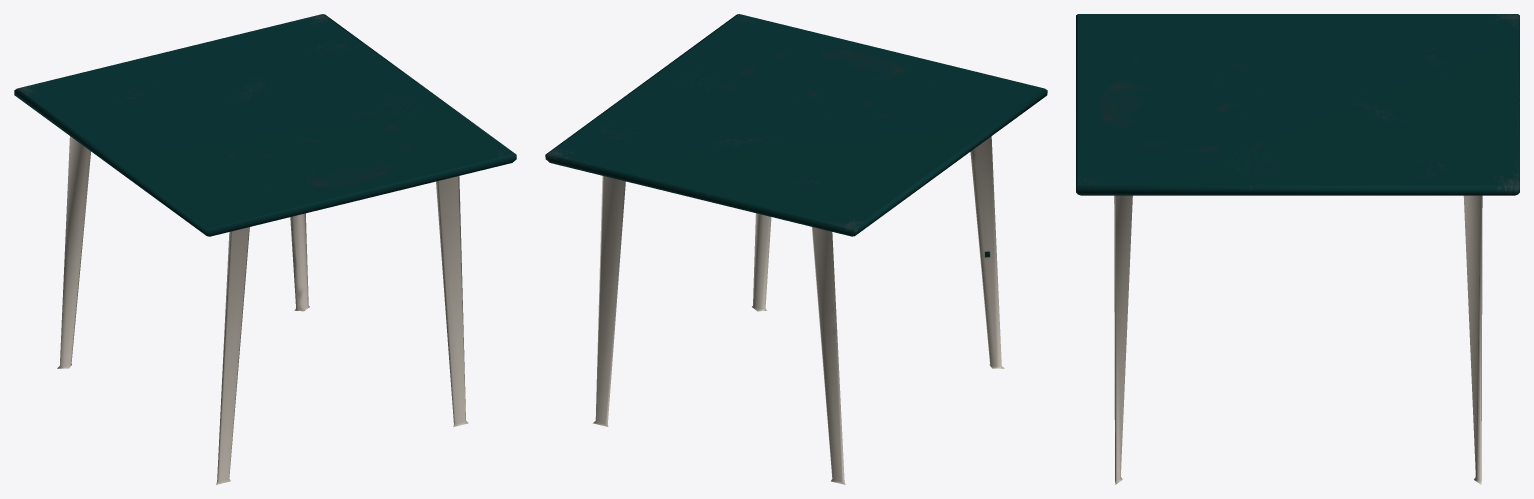
File: table.fbx
3 views of the same model, side by side, from view 1: azimuth 30°, elevation 25°; view 2: azimuth 150°, elevation 25°; view 3: azimuth 270°, elevation 25° (orthographic). The views are drawn at different scales.
Parts seen in each view (by area): view 1: defaultMaterial.003; view 2: defaultMaterial.003; view 3: defaultMaterial.003.
Part boxes in pixels (x1=…): defaultMaterial.003: x1=14, y1=14, x2=516, y2=484; defaultMaterial.003: x1=545, y1=14, x2=1047, y2=484; defaultMaterial.003: x1=1076, y1=14, x2=1519, y2=484.
Bounding box in the file's own units: 270 × 228 × 290.
